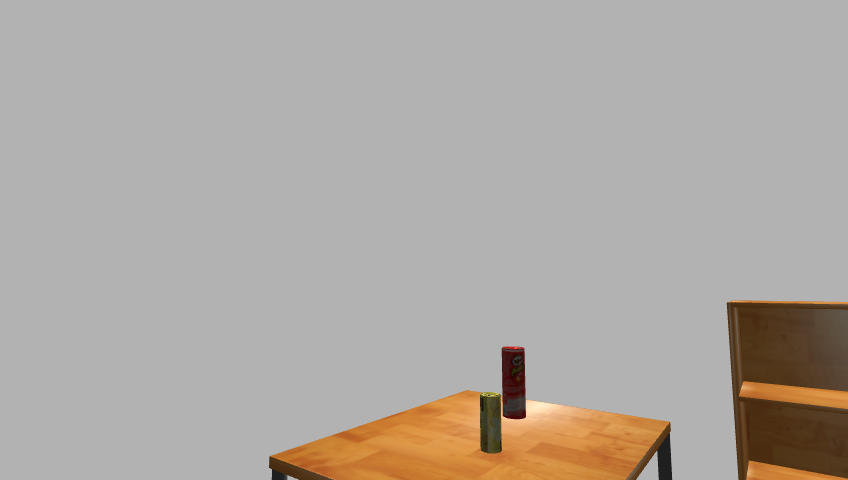biscuits pack: (478, 392, 503, 455)
bookshelf: (720, 300, 848, 480)
dinner table: (263, 391, 682, 480)
pringles can: (499, 346, 528, 421)
